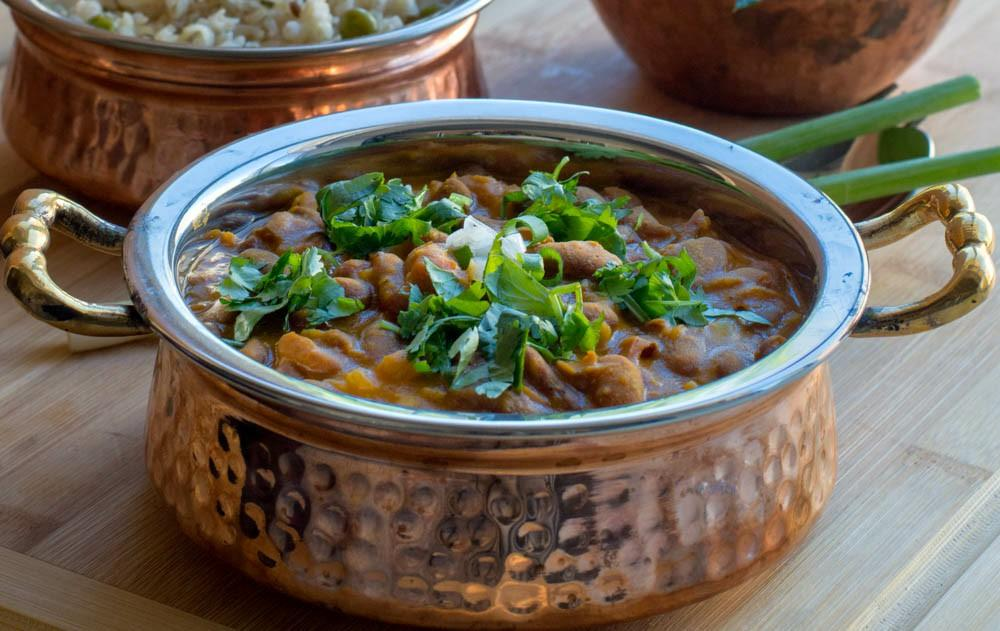RajmaCurry: (188, 162, 804, 409)
